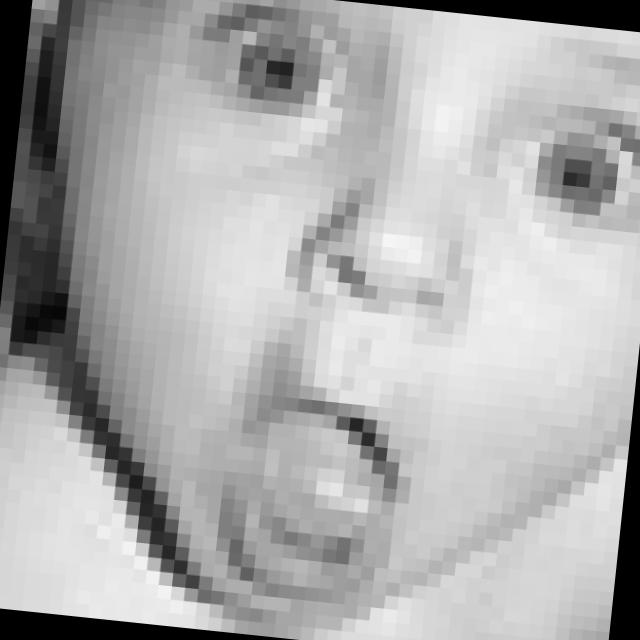surprise: (123, 0, 640, 636)
